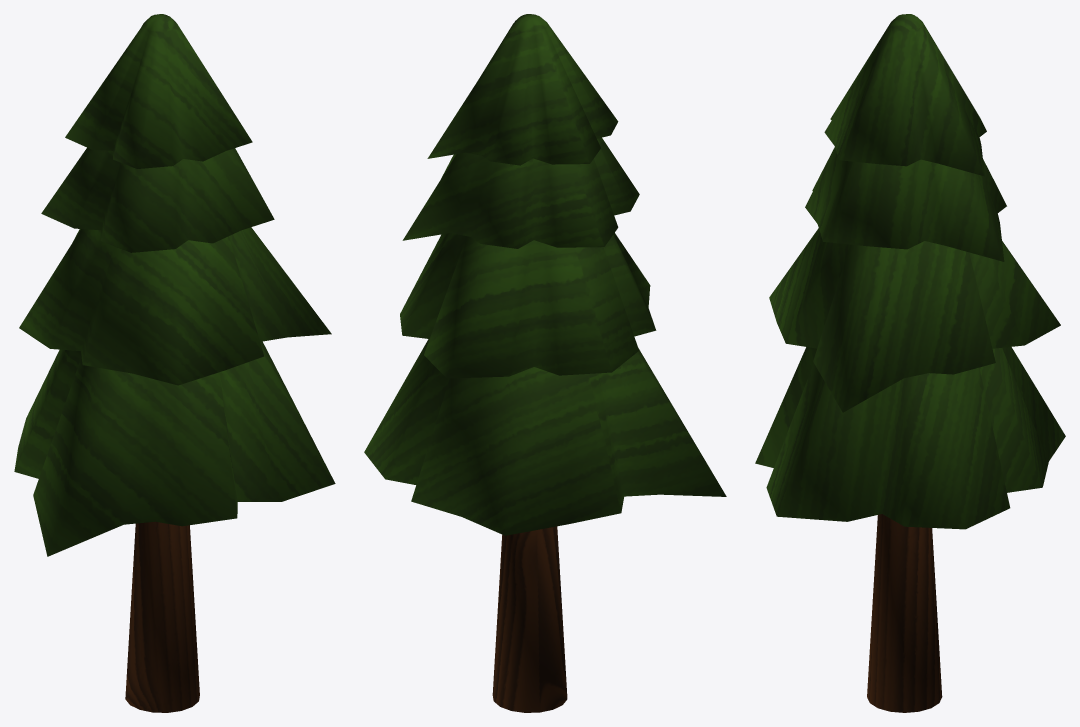
Rendered from sapin.fbx.
3 views of the same model, side by side, from view 1: azimuth 30°, elevation 25°; view 2: azimuth 150°, elevation 25°; view 3: azimuth 270°, elevation 25° (orthographic).
Visible parts, largest first — view 1: Sapin; view 2: Sapin; view 3: Sapin.
Part boxes in pixels (x1,y1,x2,y2): Sapin: (14,14,335,712); Sapin: (364,14,726,712); Sapin: (755,14,1065,712).
Size of the model in its own units: 352 by 778 by 322.
Materials: 1 (1 with a texture image).
